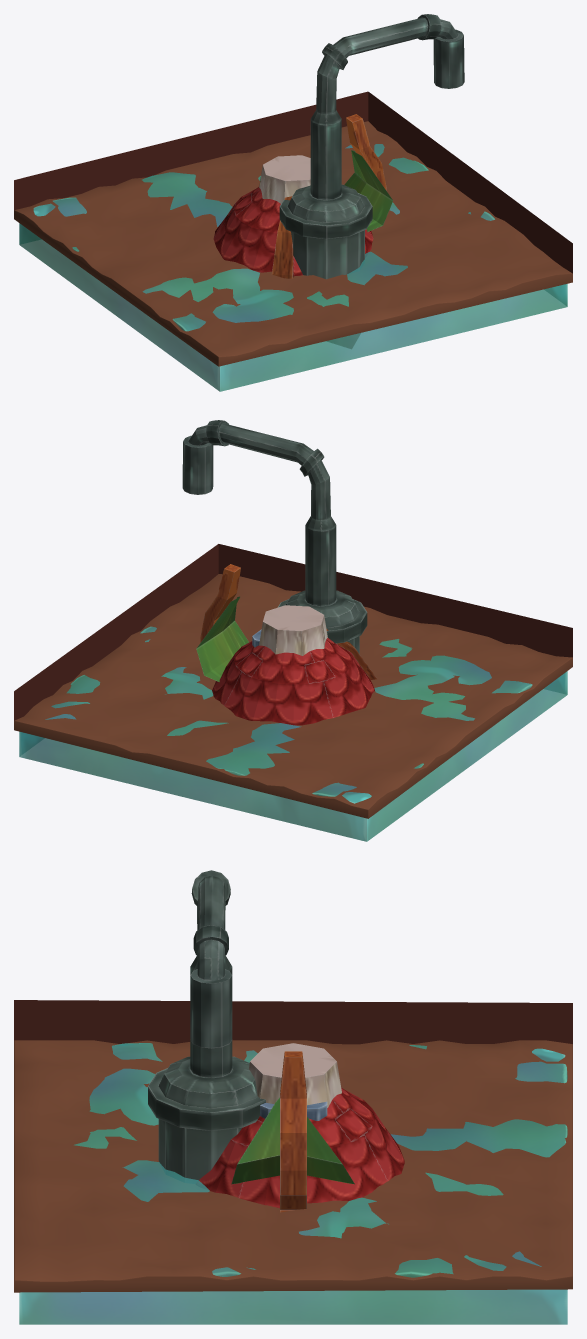
The model's file is mushroom-water-house-677787.glb.
3 views of the same model, one above another, from view 1: azimuth 30°, elevation 25°; view 2: azimuth 150°, elevation 25°; view 3: azimuth 270°, elevation 25° (orthographic). The views are drawn at different scales.
Visible parts, largest first — view 1: PropMesh; view 2: PropMesh; view 3: PropMesh.
Part boxes in pixels (<box>): PropMesh: <box>14,14,572,391</box>; PropMesh: <box>14,420,572,841</box>; PropMesh: <box>14,870,572,1324</box>.
Size of the model in its own units: 3.05 by 2.2 by 3.05.
Materials: 4 (2 with a texture image).
